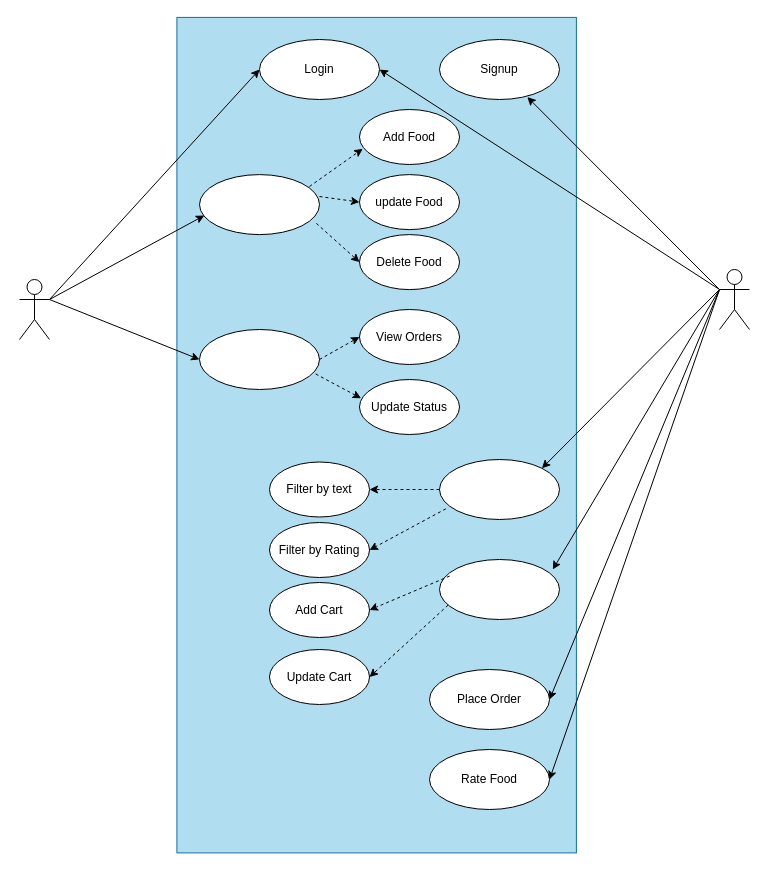
The diagram is 777 pixels wide and 871 high, and some of its shapes have lost their labels. Here are the shapes that lost their labels. From the top down, the centre of each, then its label:
At (259,204): "Manage Menu".
At (34,309): "Admin".
At (734,299): "Customer".
At (259,359): "Manage Order".
At (499,489): "Search Food".
At (499,589): "Manage Cart".
